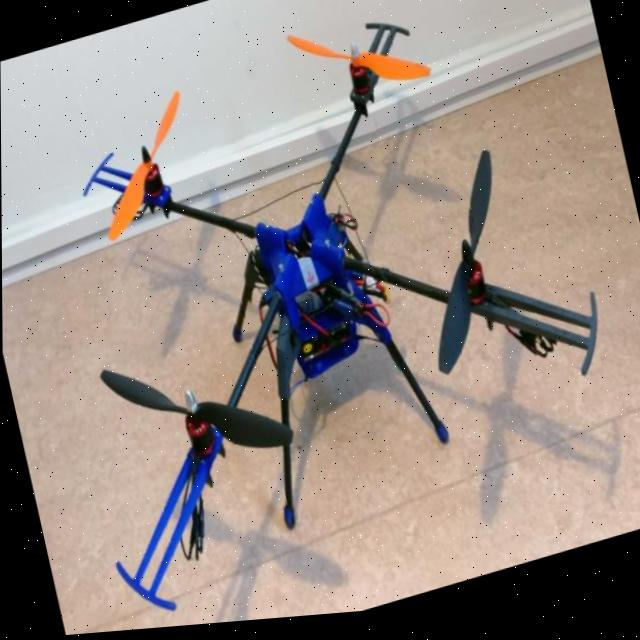drones: (2, 0, 638, 640)
